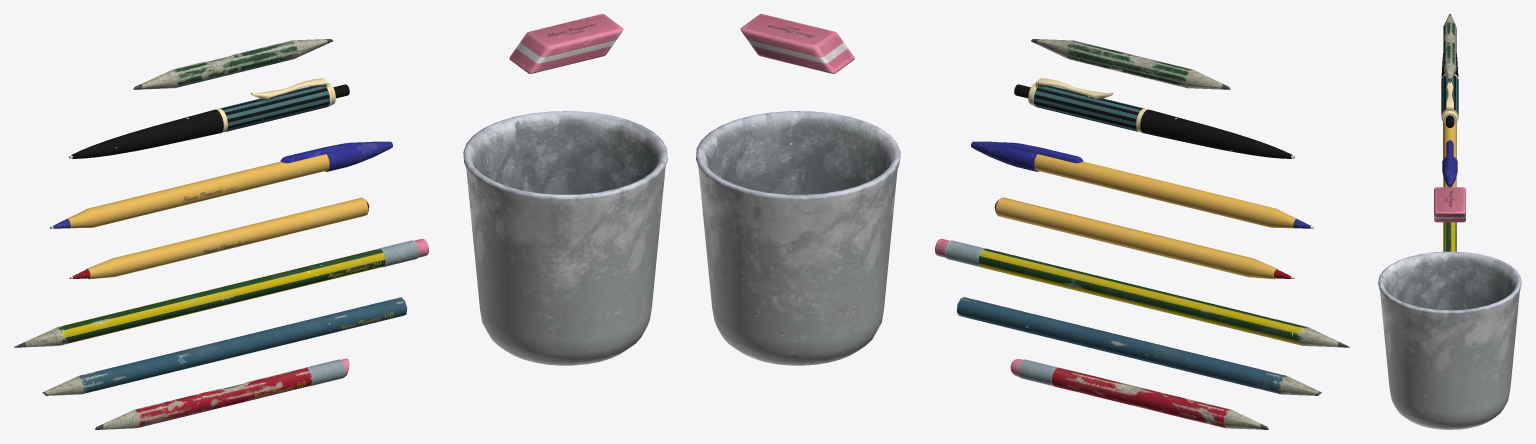
Rendered from stationery_supplies.glb.
3 views of the same model, side by side, from view 1: azimuth 30°, elevation 25°; view 2: azimuth 150°, elevation 25°; view 3: azimuth 270°, elevation 25° (orthographic). The views are drawn at different scales.
Visible parts, largest first — view 1: stationery_supplies_pen_red; view 2: stationery_supplies_pen_red; view 3: stationery_supplies_pen_red.
Part boxes in pixels (x1,y1,x2,y2): stationery_supplies_pen_red: (14, 14, 667, 429); stationery_supplies_pen_red: (696, 14, 1349, 429); stationery_supplies_pen_red: (1378, 14, 1521, 429).
Bounding box in the file's own units: 0.3019 × 0.1644 × 0.0837.
Materials: 1 (1 with a texture image).
